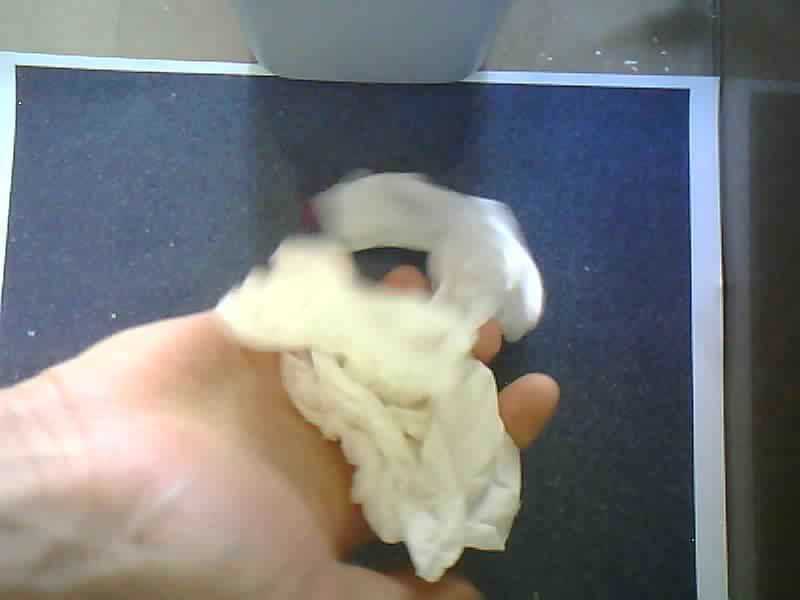paper: (201, 156, 544, 580)
